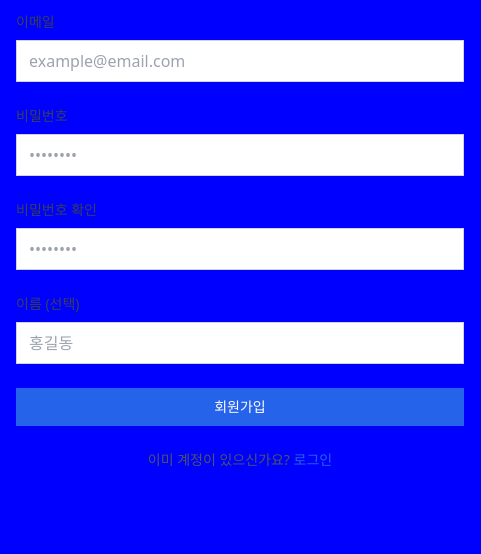
it: SignUpForm Component - TASK-009 › should handle API errors gracefully
Step 1. Type "existing@example.com" into the field labelled "이메일" → (240, 61), box [16,40,464,82]
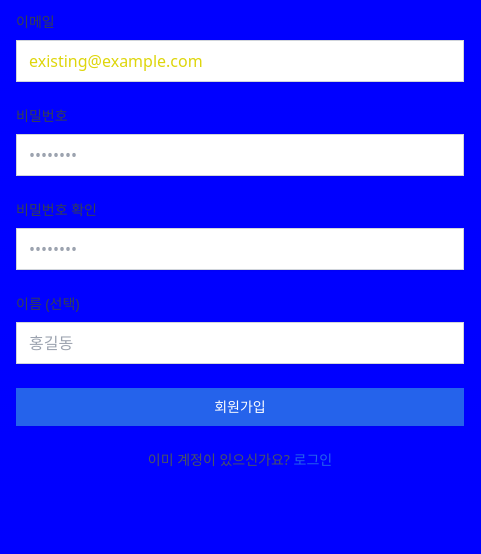
Step 2. Type "SecurePass123!" into the password field labelled "비밀번호" → (240, 155), box [16,134,464,176]
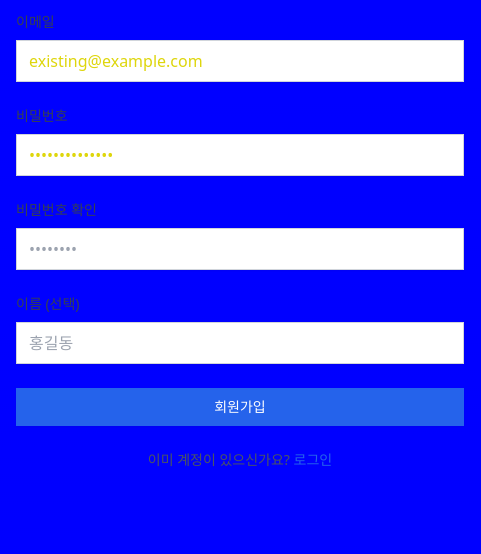
Step 3. Type "SecurePass123!" into the password field labelled "비밀번호 확인" → (240, 249), box [16,228,464,270]
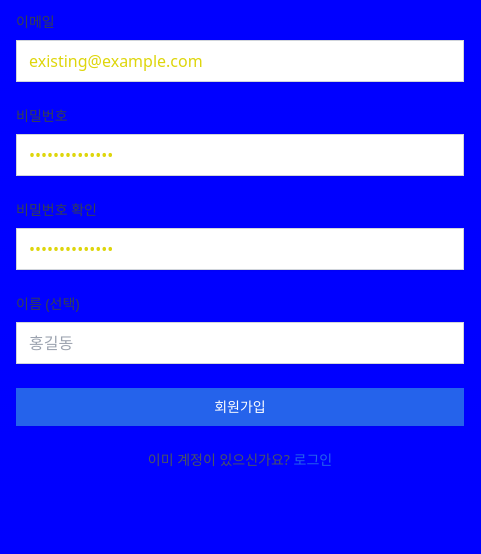
Step 4. Click the button "회원가입" → click(240, 407), box [16,388,464,426]
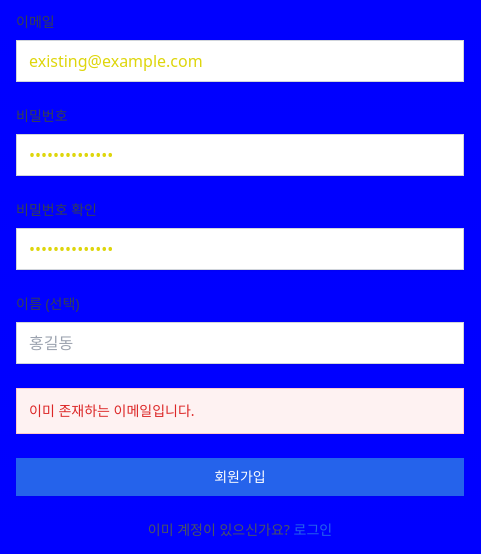
Expected: the text "이미 존재하는 이메일입니다." is shown, [29,401,195,420]
